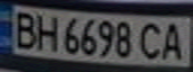6: (78, 16, 100, 56), (60, 15, 81, 55)
8: (112, 18, 136, 60)
9: (97, 17, 118, 59)
A: (157, 19, 190, 62)
B: (9, 8, 39, 50)
C: (136, 19, 166, 61)
H: (30, 11, 60, 52)
